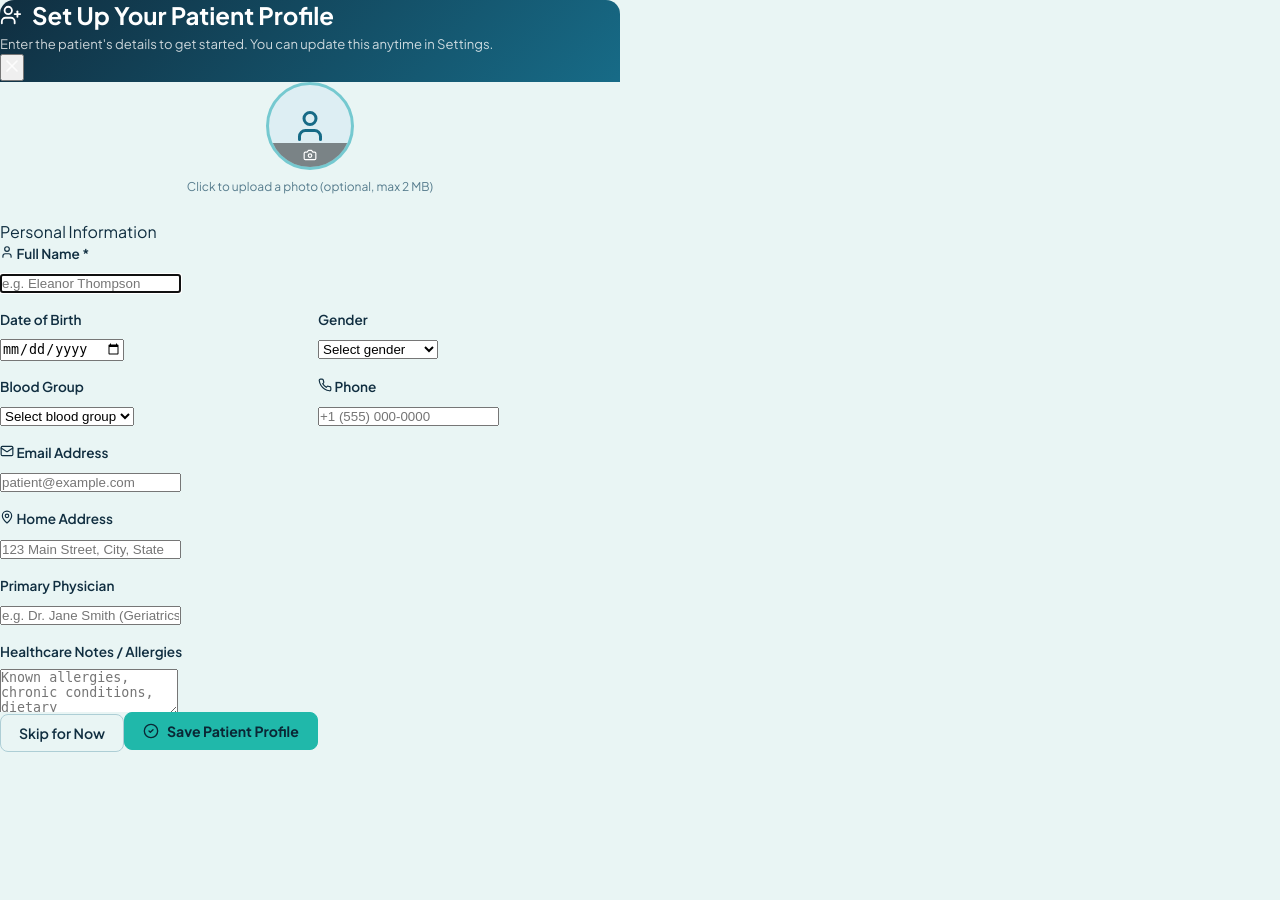
SetupProfileModal Component › displays validation error if required full name is omitted on submit
Click the button "Save Patient Profile" at (221, 731), box [124,712,318,750]
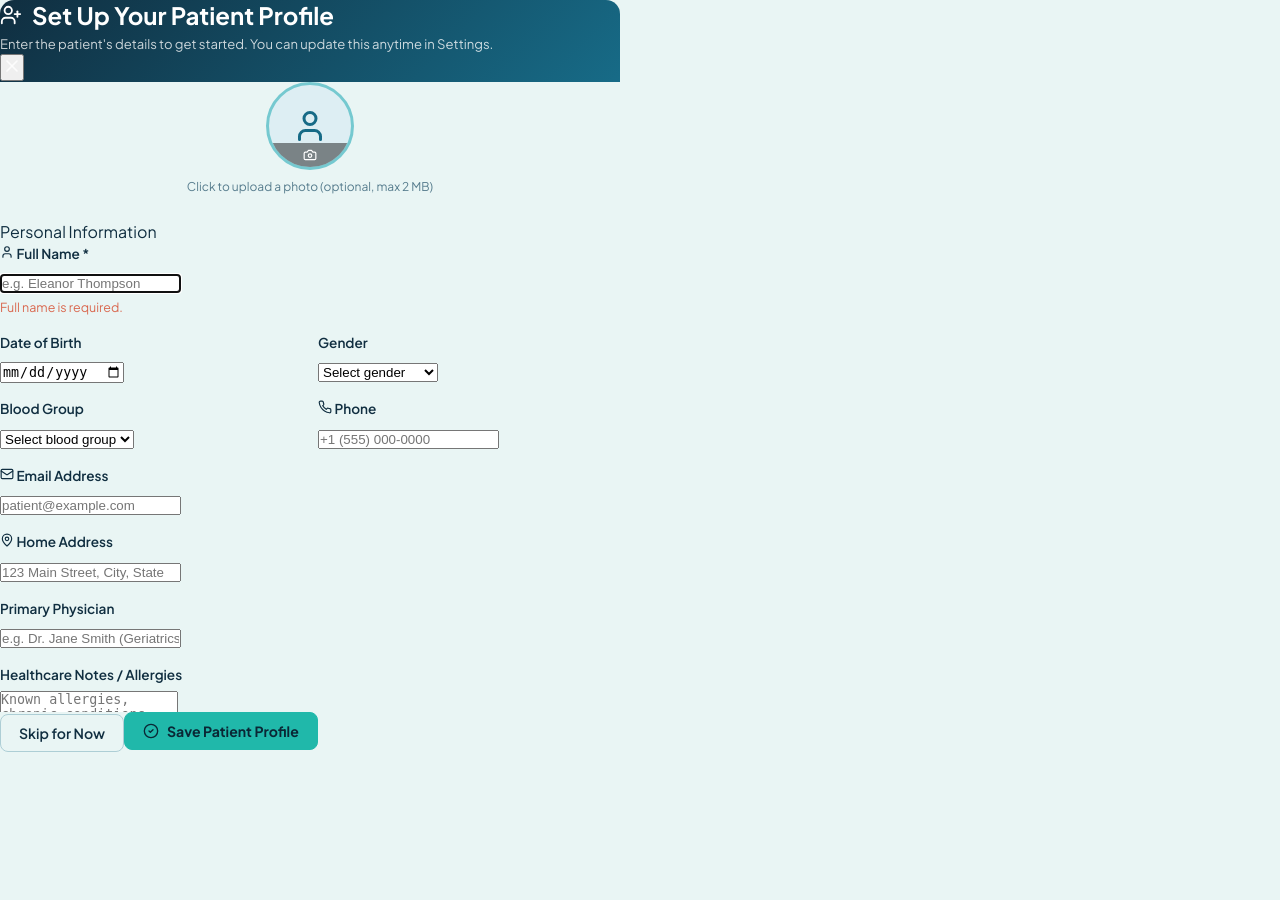
Check: the text "Full name is required." is shown, box [0,299,123,315]
